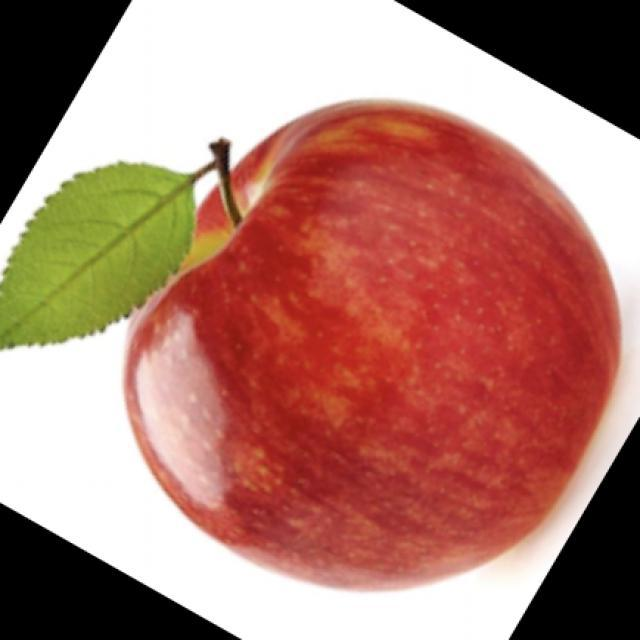Fresh Apple: (117, 99, 626, 588)
